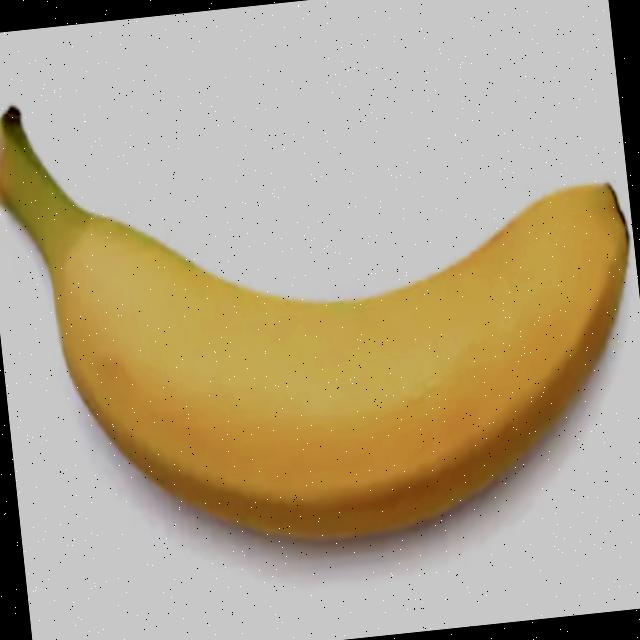Ripe: (0, 17, 640, 579)
